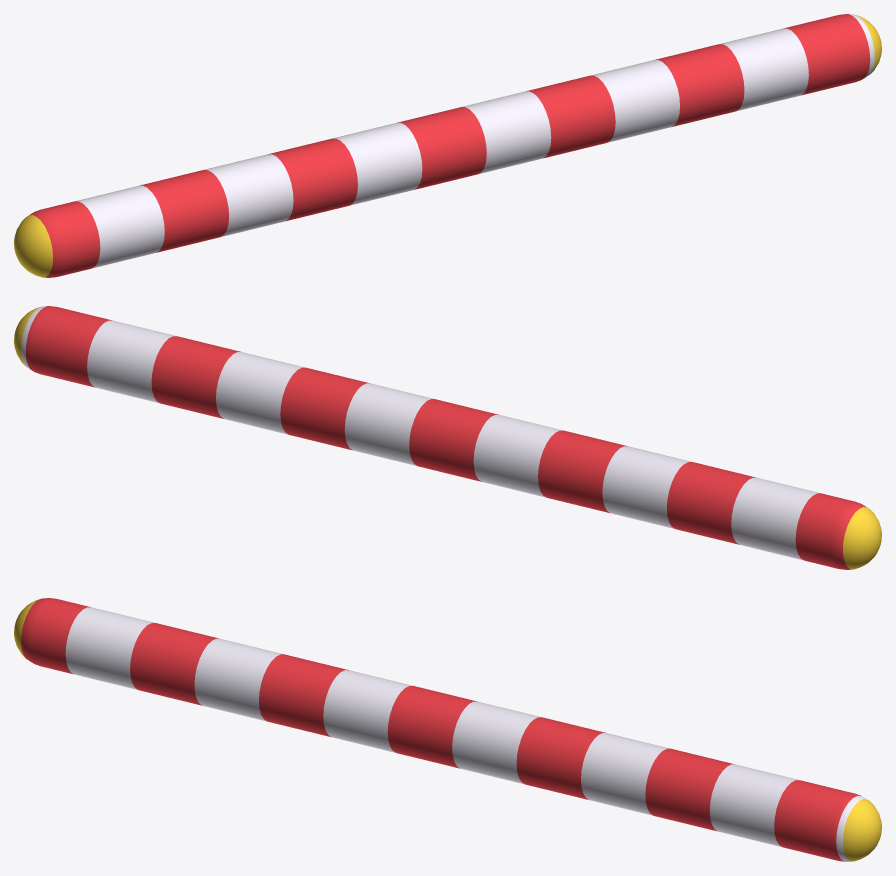
Rendered from sweeper_bar_10.glb.
3 renders of one model, top to bottom at view 1: azimuth 30°, elevation 25°; view 2: azimuth 150°, elevation 25°; view 3: azimuth 330°, elevation 25°, orthographic.
Parts seen in each view (by area): view 1: sweeper_bar_10; view 2: sweeper_bar_10; view 3: sweeper_bar_10.
Boxes of the visible parts, x1,y1,x2,y2 form: sweeper_bar_10: (14, 14, 881, 277); sweeper_bar_10: (14, 306, 881, 569); sweeper_bar_10: (14, 598, 881, 861).
Bounding box in the file's own units: 10 × 0.7 × 0.7.
1 material, 1 textured.
